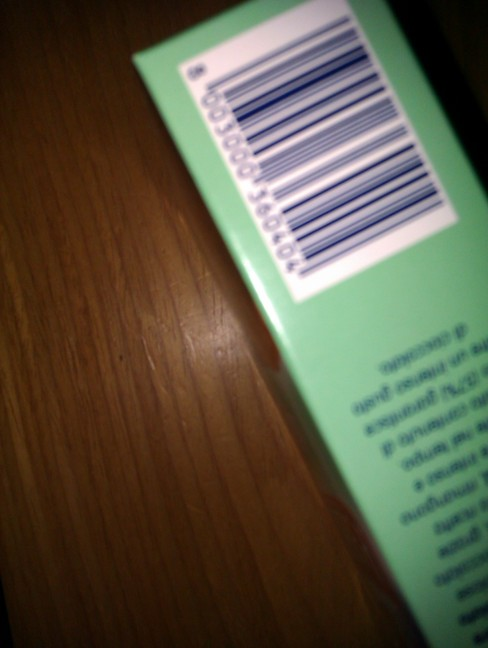barcode: (180, 11, 464, 291)
